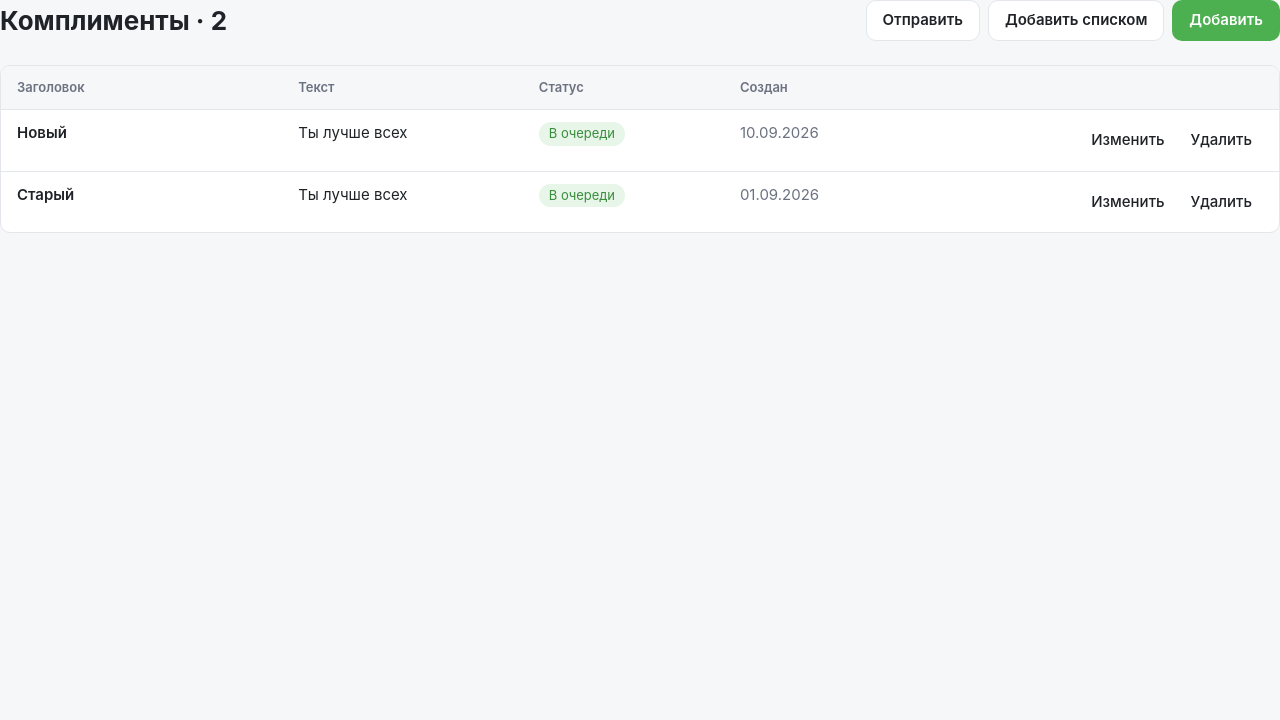
ComplimentsPage: отправка одного комплимента › отправляет выбранный комплимент выбранному получателю и перечитывает списки
expect the heading "Комплименты · 2" is shown: met, box 0,1 -> 227,40
Click the button "Отправить" at [923, 20], box 866,0 -> 980,40
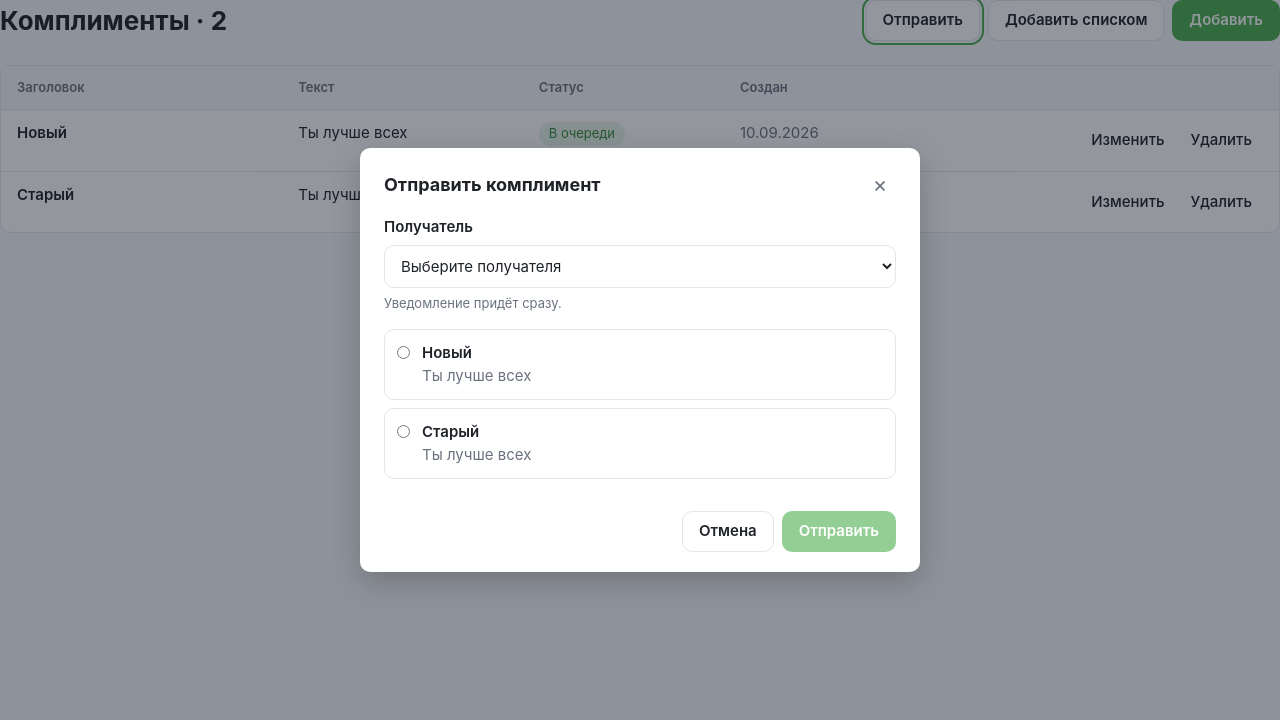
expect the dropdown labelled "Получатель" shows "Выберите получателя": met
expect the button "Отправить" is disabled: met, box 782,511 -> 896,552
Select "Петя · iPhone · веб-приложение" in the dropdown labelled "Получатель" at [640, 266], box 384,245 -> 896,288
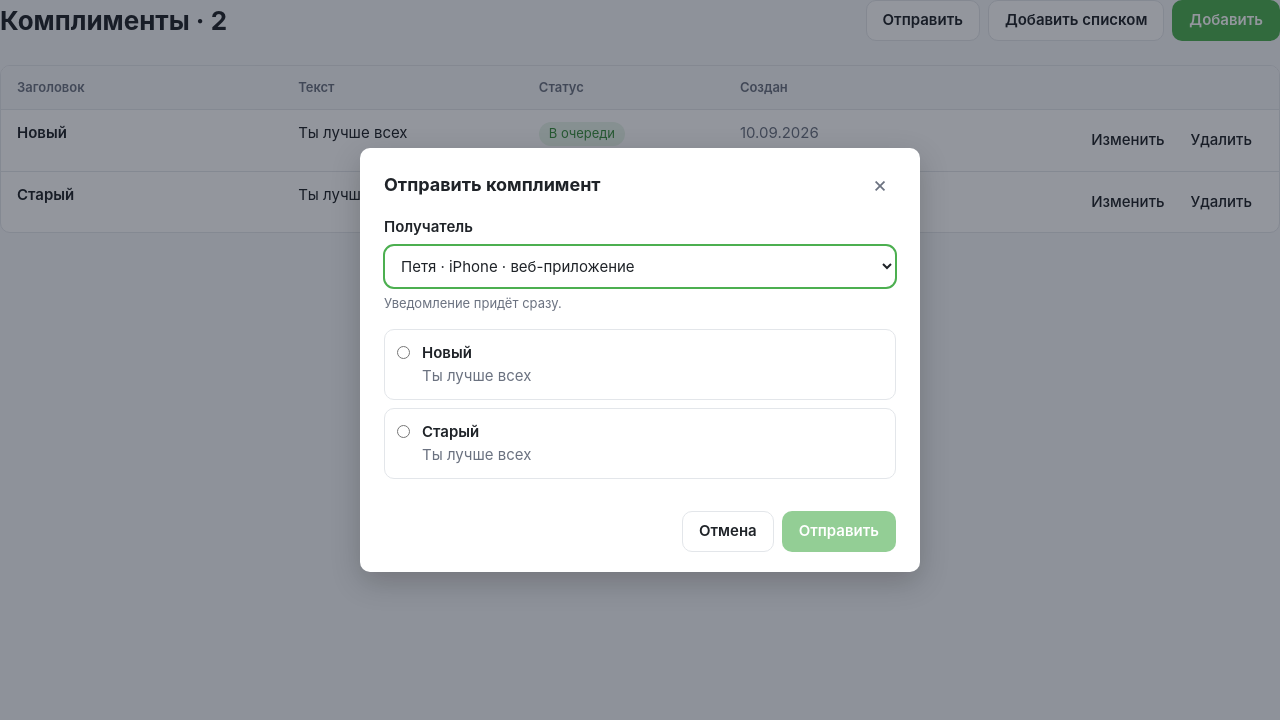
Click the radio button labelled "Старый Ты лучше всех" at [404, 432], box 397,425 -> 410,438
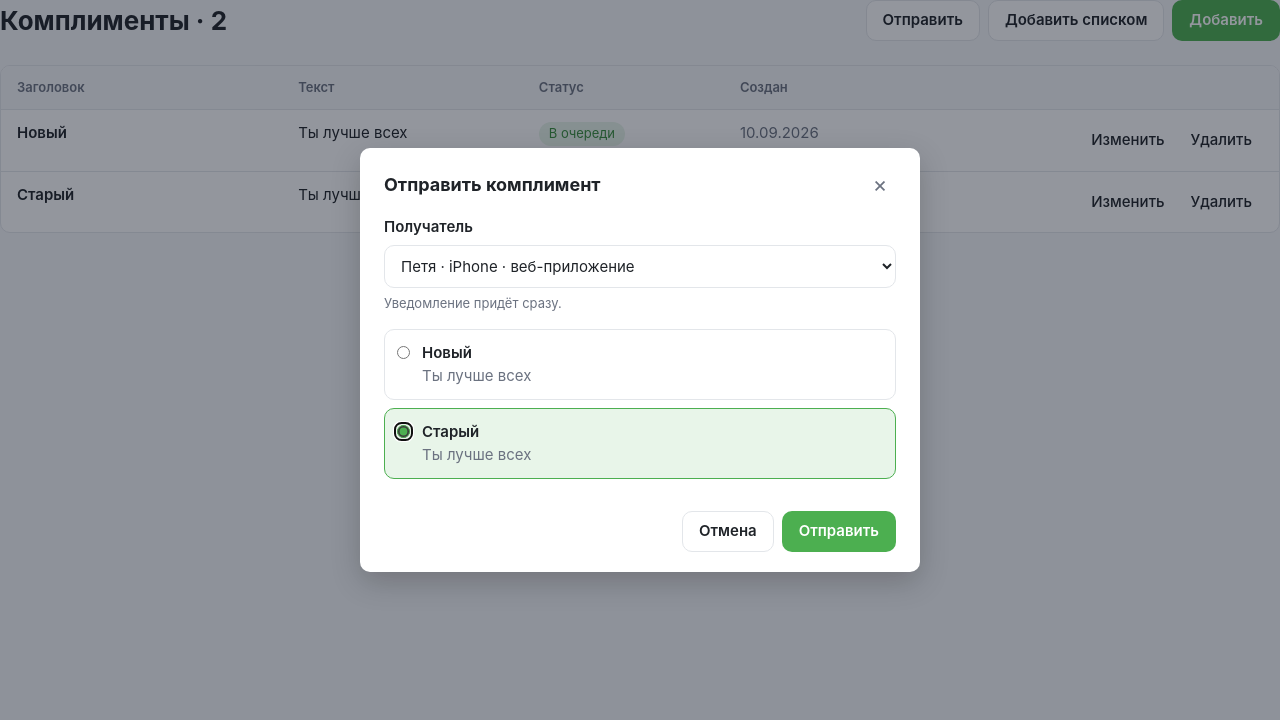
Click the button "Отправить" at [839, 532], box 782,511 -> 896,552
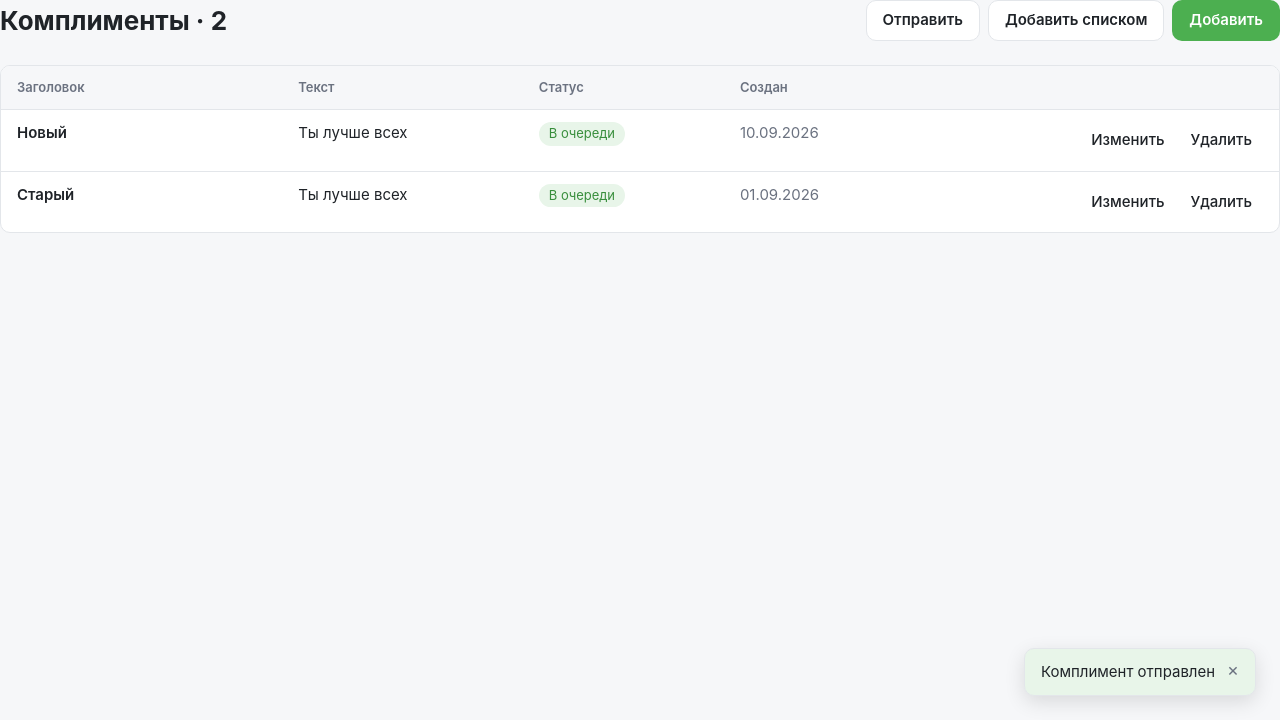
expect the text "Комплимент отправлен" is shown: met, box 1041,660 -> 1215,683
expect the dialog is gone: met
